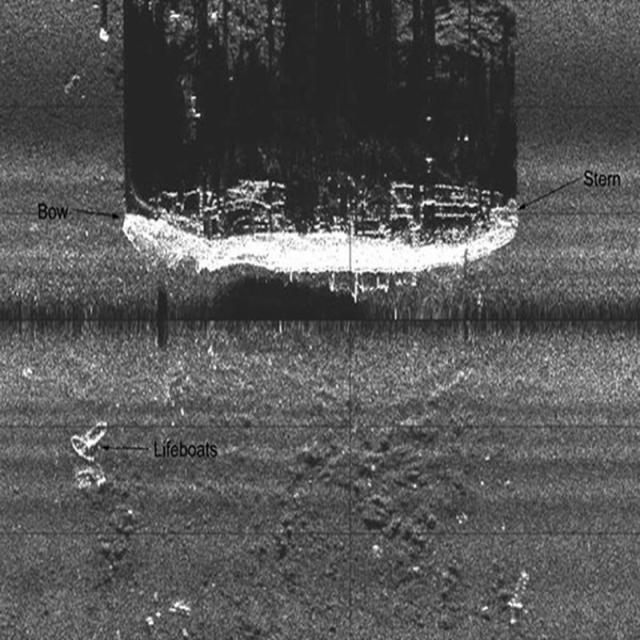ship: (122, 155, 520, 275)
